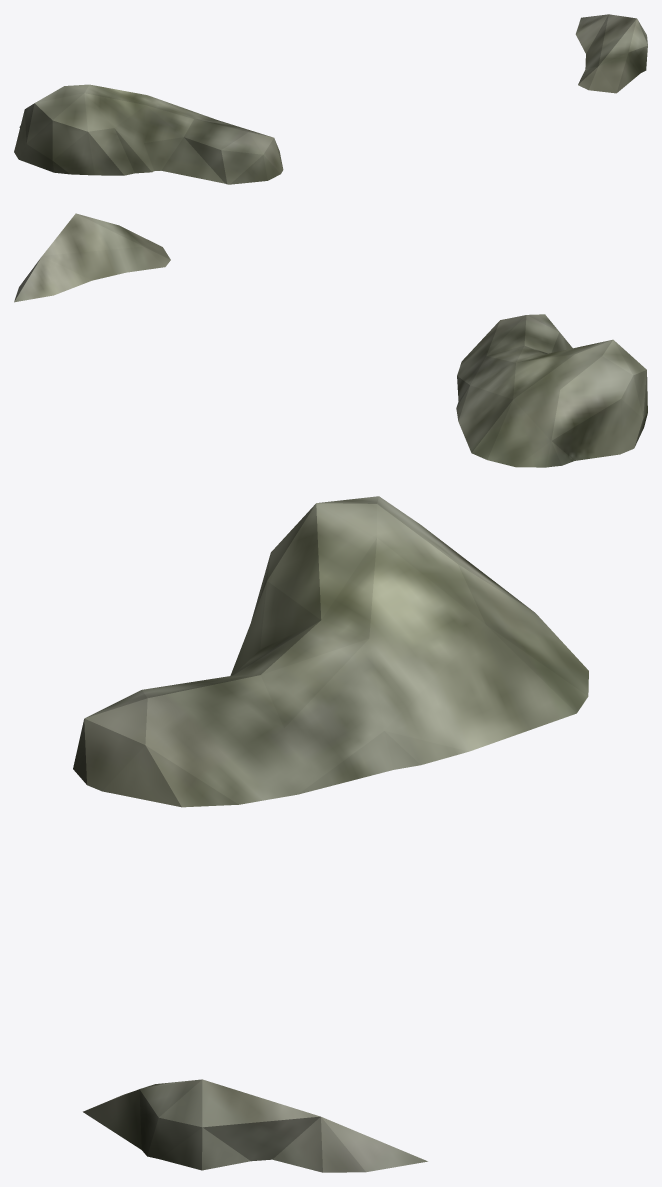
3 views of the same model, one above another, from view 1: azimuth 30°, elevation 25°; view 2: azimuth 150°, elevation 25°; view 3: azimuth 270°, elevation 25° (orthographic). The views are drawn at different scales.
Size of the model in its own units: 1.78 by 0.2146 by 0.6861.
1 material, 1 textured.
